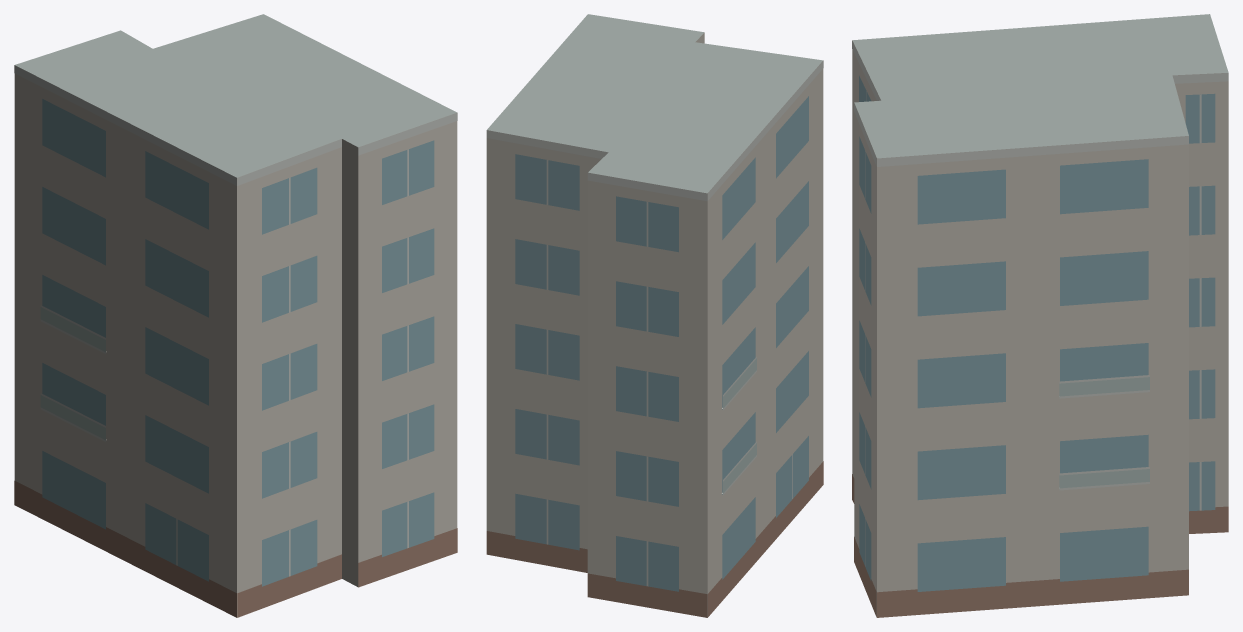
Rendered from survey-upis-32564863.glb.
The picture shows the model from 3 angles, left to right: view 1: azimuth 30°, elevation 25°; view 2: azimuth 150°, elevation 25°; view 3: azimuth 270°, elevation 25°; orthographic projection. The views are drawn at different scales.
Parts seen in each view (by area): view 1: survey-upis-32564863.tmp; view 2: survey-upis-32564863.tmp; view 3: survey-upis-32564863.tmp.
Boxes of the visible parts, x1=… form: survey-upis-32564863.tmp: x1=14, y1=14, x2=457, y2=617; survey-upis-32564863.tmp: x1=486, y1=14, x2=823, y2=617; survey-upis-32564863.tmp: x1=852, y1=14, x2=1228, y2=617.
Size of the model in its own units: 8.78 by 13 by 9.67.
